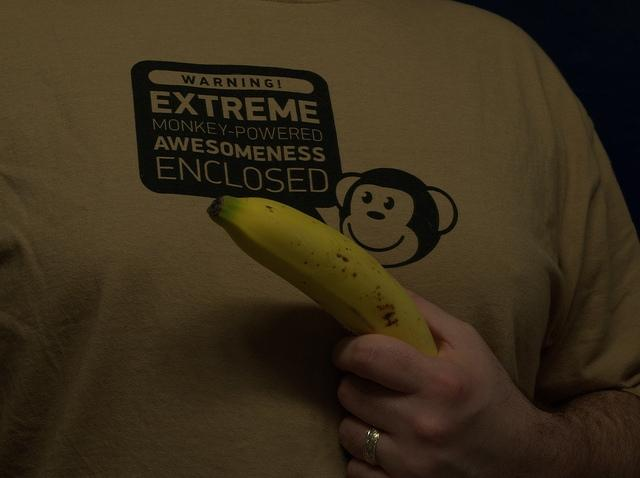banana: (207, 195, 439, 357)
